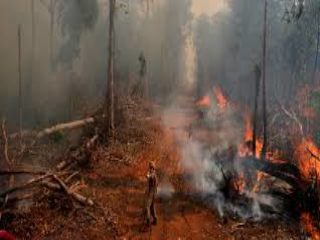fire: (292, 138, 320, 180), (242, 120, 269, 159), (196, 86, 231, 109)
smoke: (162, 132, 275, 221)
